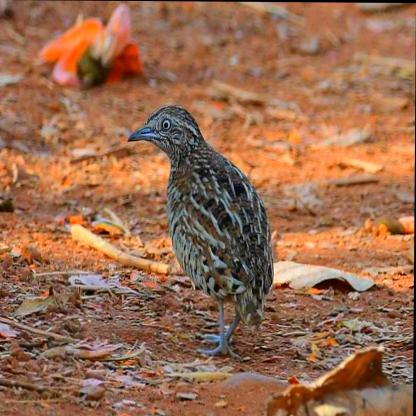Burung: (125, 103, 275, 359)
